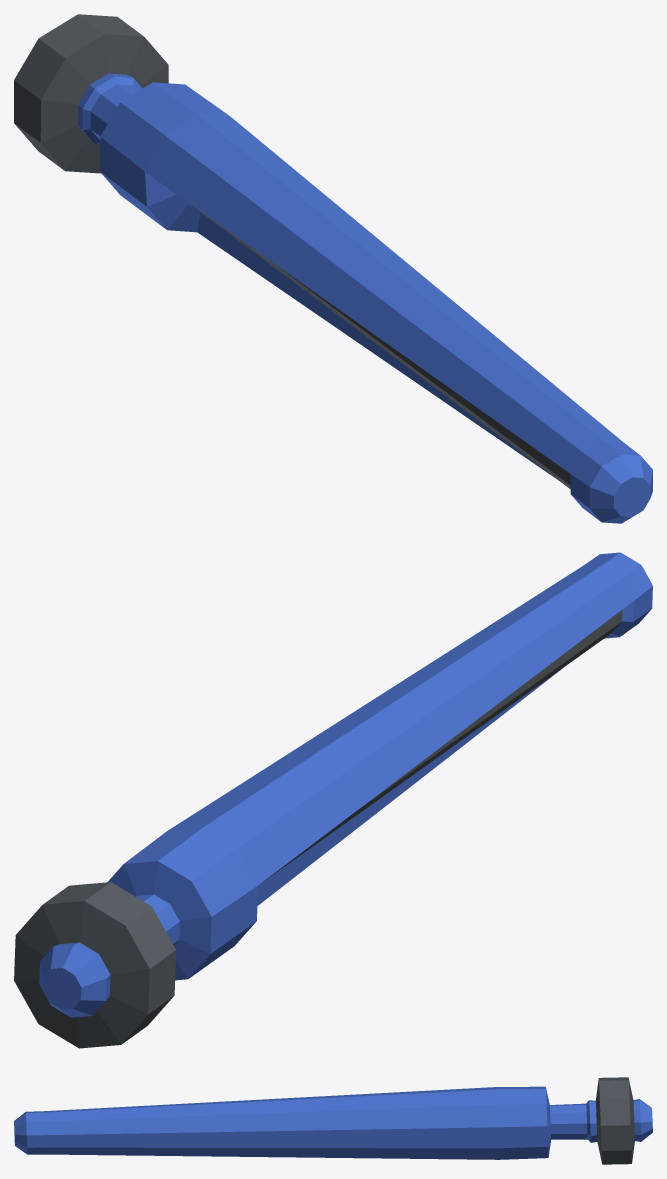
File: Fighter_07_MiniGun_Blue.fbx
3 renders of one model, top to bottom at view 1: azimuth 30°, elevation 25°; view 2: azimuth 150°, elevation 25°; view 3: azimuth 270°, elevation 25°, orthographic. The views are drawn at different scales.
Visible parts, largest first — view 1: Fighter_07_MiniGun_Blue; view 2: Fighter_07_MiniGun_Blue; view 3: Fighter_07_MiniGun_Blue.
Boxes of the visible parts, bbox=[...] form: Fighter_07_MiniGun_Blue: bbox=[14, 14, 652, 523]; Fighter_07_MiniGun_Blue: bbox=[14, 552, 652, 1048]; Fighter_07_MiniGun_Blue: bbox=[14, 1077, 652, 1164].
Size of the model in its own units: 61.54 by 64.42 by 461.
2 materials, 2 textured.
